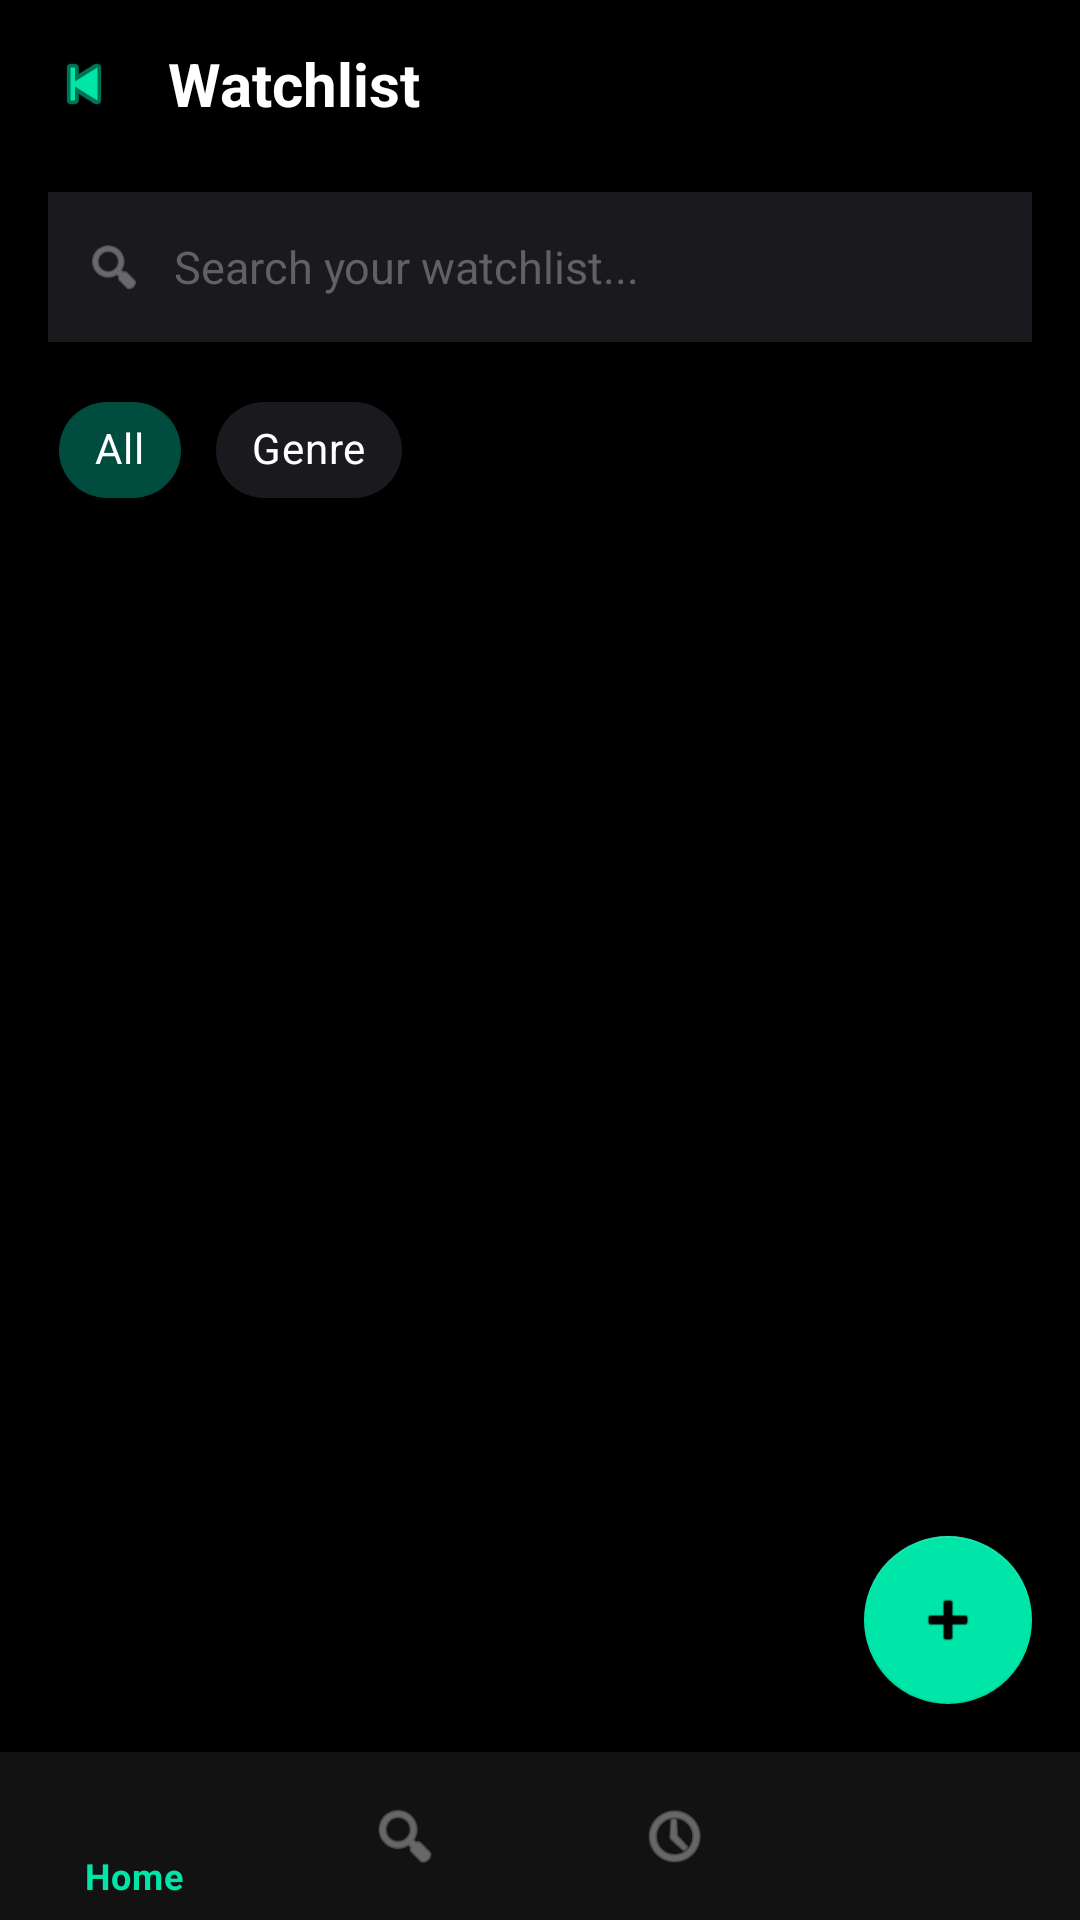

Screen size 1080 × 1920. Icon name, then its center in pixels as (x,y):
add: (948,1620)
